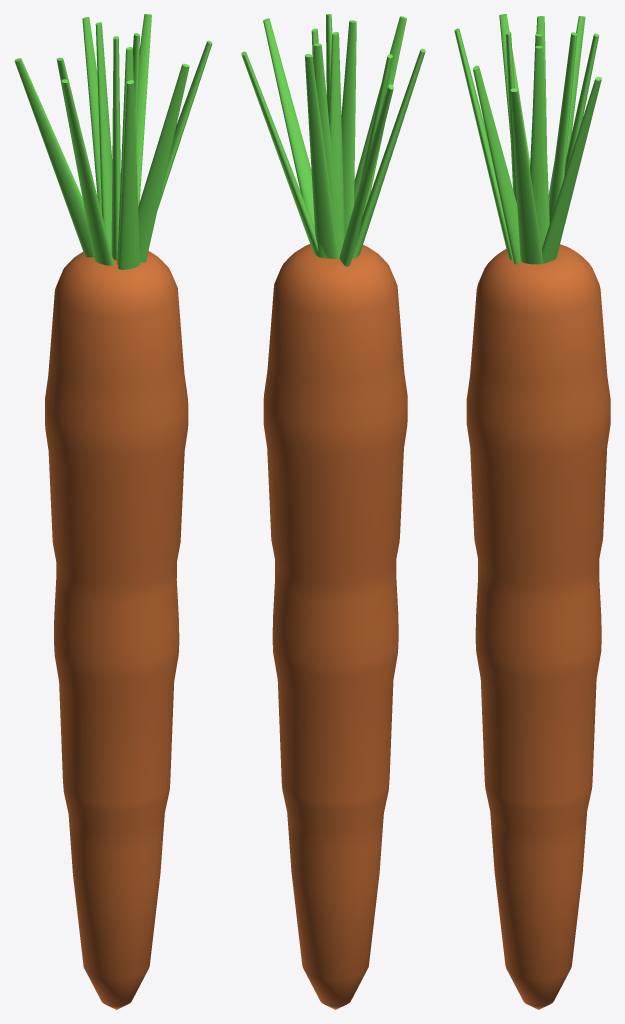
Rendered from Möhre.fbx.
3 renders of one model, left to right at view 1: azimuth 30°, elevation 25°; view 2: azimuth 150°, elevation 25°; view 3: azimuth 270°, elevation 25°, orthographic.
Parts seen in each view (by area): view 1: Möhre_komplett; view 2: Möhre_komplett; view 3: Möhre_komplett.
Boxes of the visible parts, left/top/right/bottom form: Möhre_komplett: left=14, top=14, right=212, bottom=1009; Möhre_komplett: left=241, top=14, right=425, bottom=1009; Möhre_komplett: left=454, top=14, right=610, bottom=1009.
Bounding box in the file's own units: 41.5 × 237 × 34.38.
